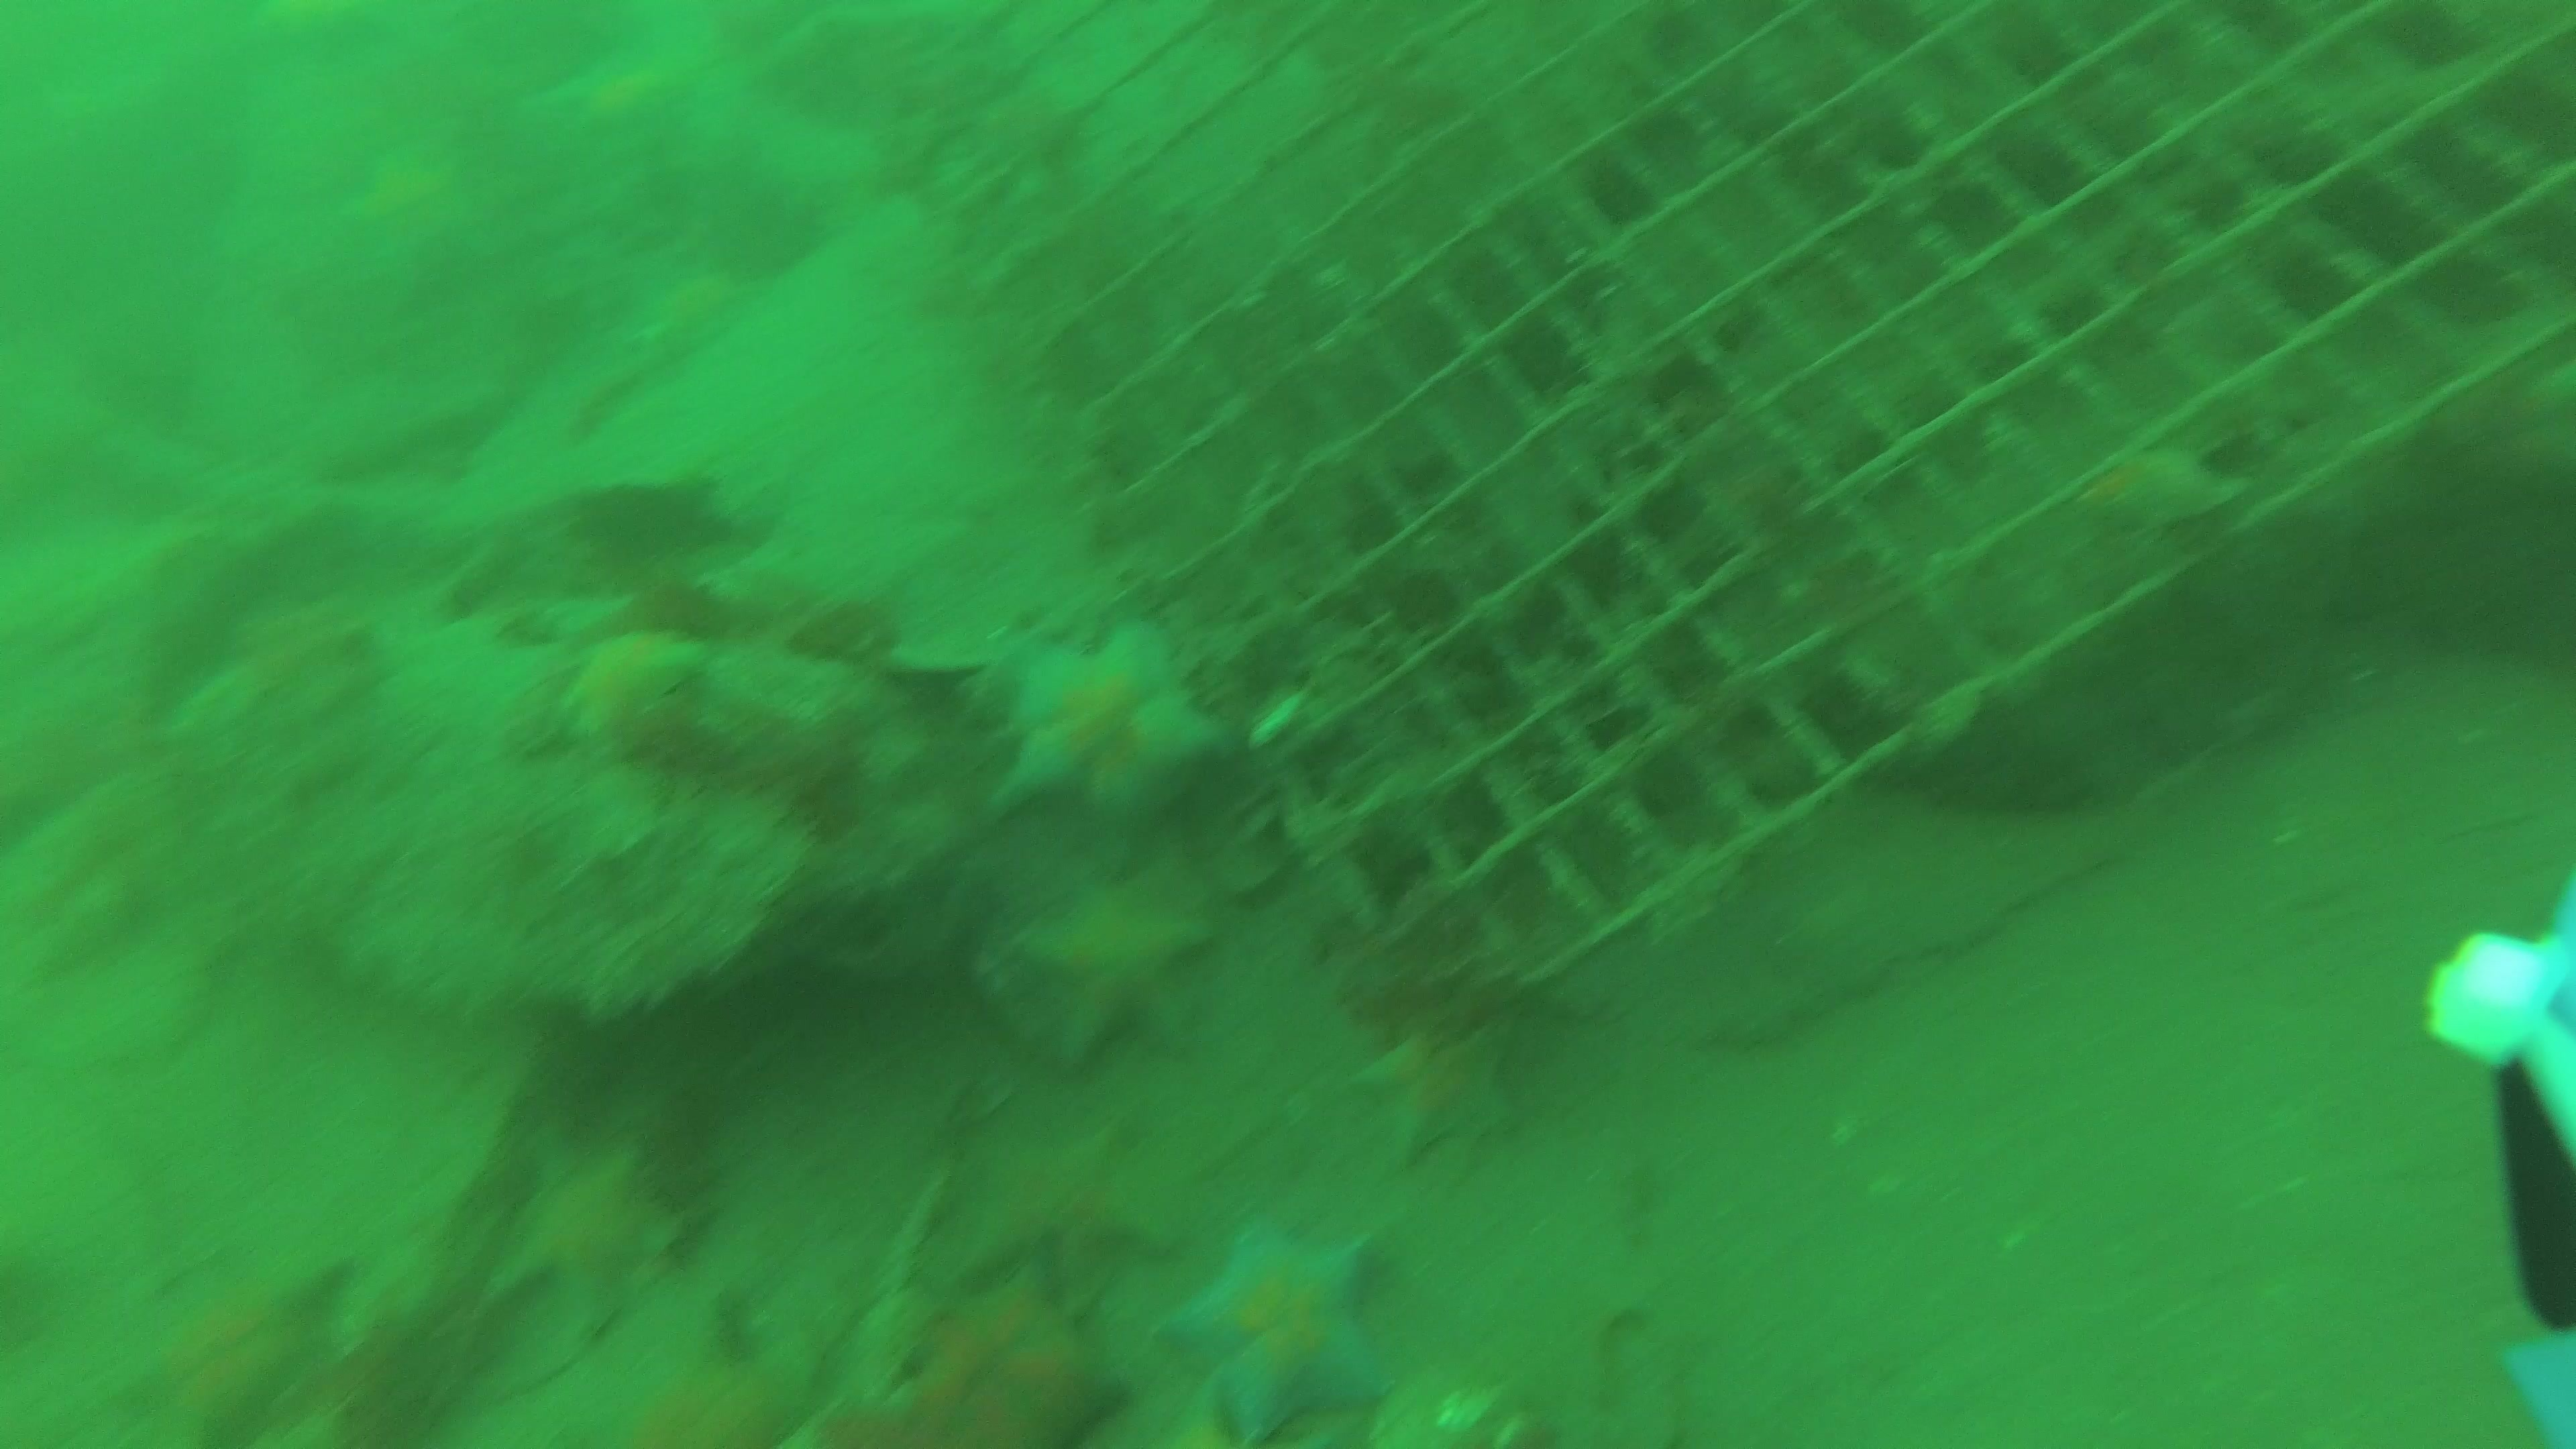starfish: (828, 1260, 1129, 1444), (1161, 1224, 1391, 1445), (108, 1253, 345, 1449), (1012, 626, 1219, 823), (955, 1123, 1166, 1315), (490, 1150, 678, 1345), (598, 1290, 844, 1437), (1012, 899, 1210, 1067), (552, 630, 694, 763), (1361, 1039, 1511, 1162), (338, 143, 478, 265)
